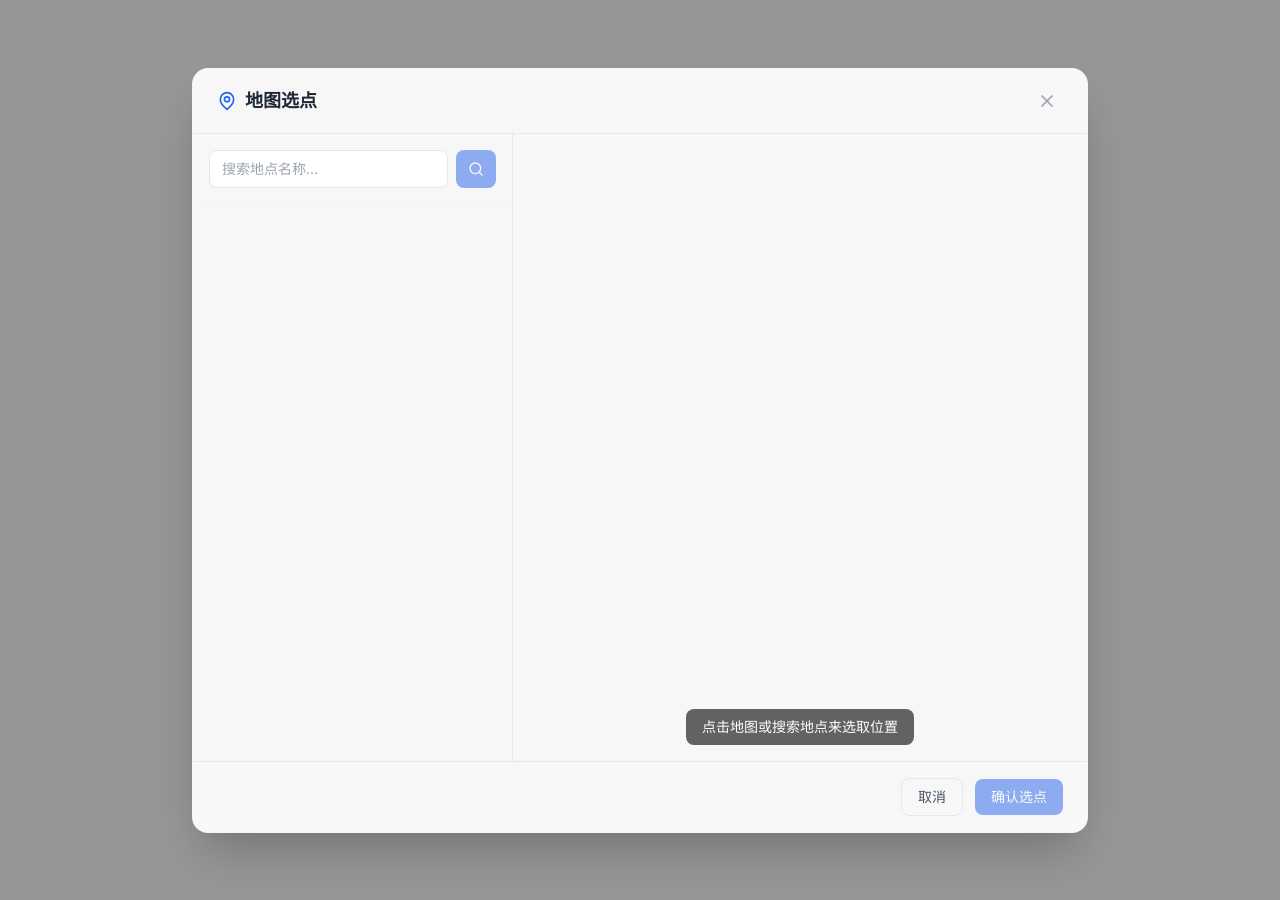
BaiduMapPickerModal map lifecycle › times out a never-settling place search and clears its loading state
The width and height of the screenshot is (1280, 900).
Type "地点" into the field with placeholder "搜索地点名称..." at (328, 168), box [209,150,448,188]
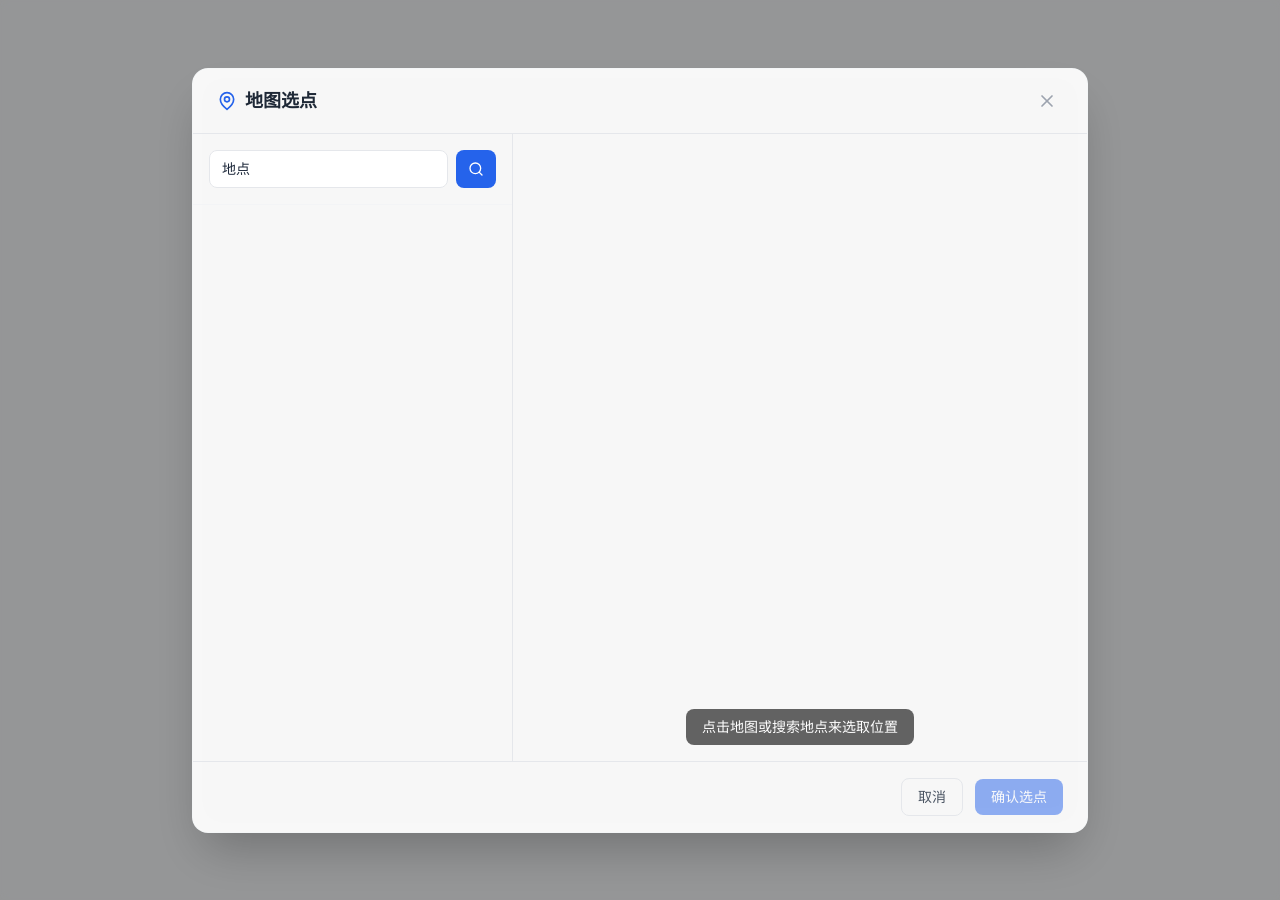
Press Enter in the field with placeholder "搜索地点名称...", box [209,150,448,188]
Wait 20100 ms
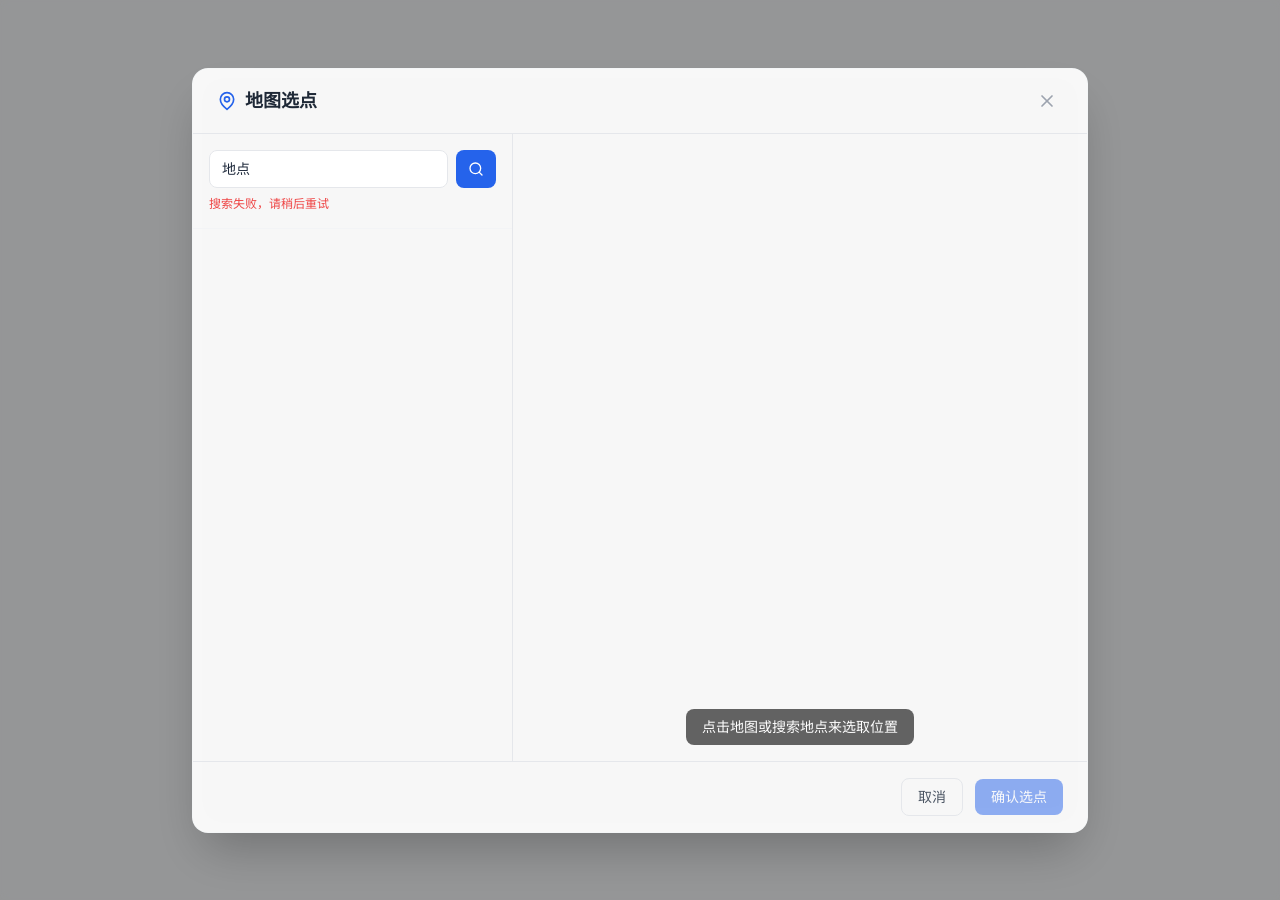
Expected: the text "搜索失败，请稍后重试" is shown, [209,196,329,210]
